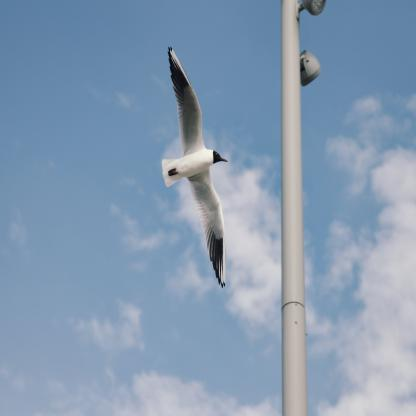bird: (162, 46, 228, 288)
